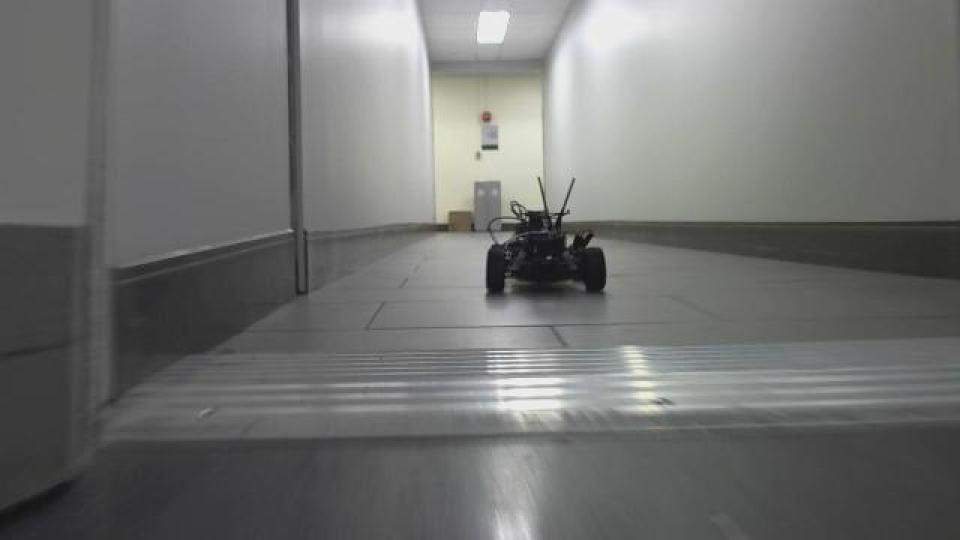car: (480, 172, 609, 298)
